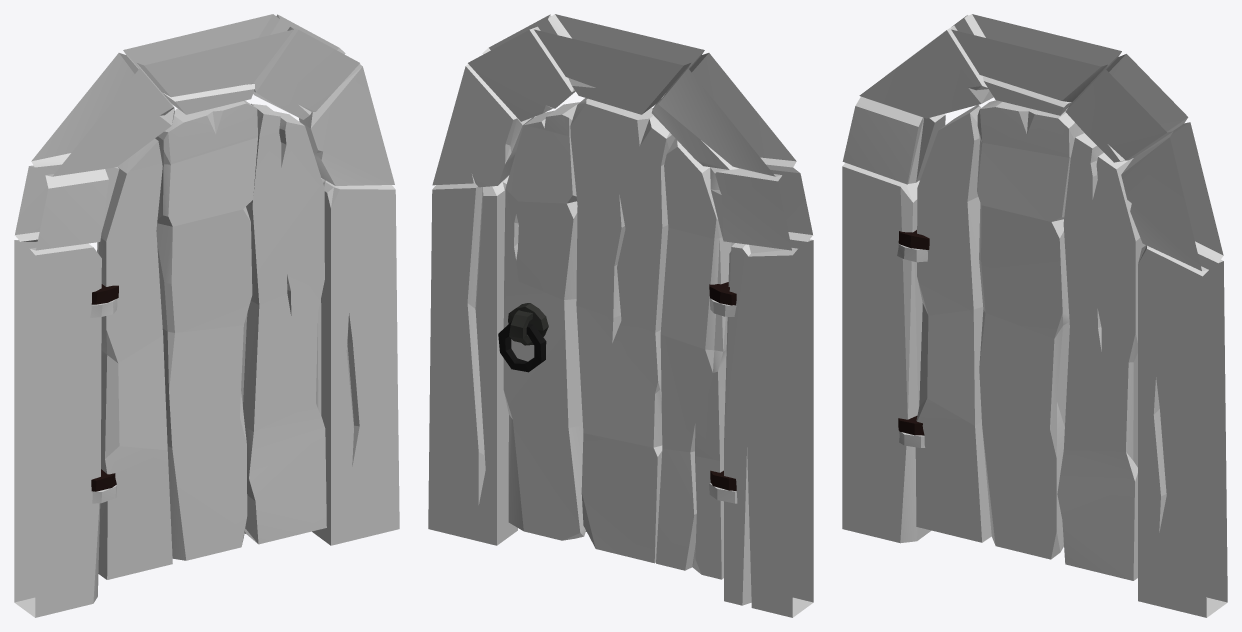
The model's file is NGF_Env_Door_arc_02.fbx.
The picture shows the model from 3 angles, left to right: view 1: azimuth 30°, elevation 25°; view 2: azimuth 150°, elevation 25°; view 3: azimuth 330°, elevation 25°; orthographic projection.
Parts seen in each view (by area): view 1: NGF_Env_Door_arc_02, NGF_Env_Door_02, NGF_Env_Hinges_06, NGF_Env_Hinges_03; view 2: NGF_Env_Door_arc_02, NGF_Env_Door_02, NGF_Env_Handle_02, NGF_Env_Handle_attachment_02, NGF_Env_Hinges_06, NGF_Env_Hinges_03; view 3: NGF_Env_Door_arc_02, NGF_Env_Door_02, NGF_Env_Hinges_06, NGF_Env_Hinges_03.
Part boxes in pixels (x1,y1,x2,y2): NGF_Env_Door_arc_02: (14, 14, 399, 617); NGF_Env_Door_02: (97, 100, 326, 579); NGF_Env_Hinges_06: (91, 284, 118, 491); NGF_Env_Hinges_03: (90, 299, 117, 503); NGF_Env_Door_arc_02: (428, 14, 813, 617); NGF_Env_Door_02: (503, 98, 734, 579); NGF_Env_Handle_02: (498, 321, 546, 372); NGF_Env_Handle_attachment_02: (508, 303, 548, 345); NGF_Env_Hinges_06: (709, 282, 736, 490); NGF_Env_Hinges_03: (709, 297, 737, 503); NGF_Env_Door_arc_02: (842, 14, 1227, 617); NGF_Env_Door_02: (915, 100, 1145, 580); NGF_Env_Hinges_06: (898, 230, 929, 435); NGF_Env_Hinges_03: (897, 244, 927, 447).
Bounding box in the file's own units: 2 × 2.76 × 0.336.
1 material, 1 textured.
